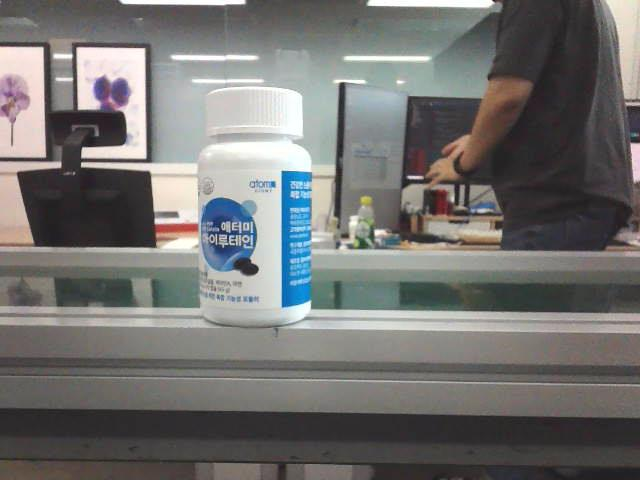labeled: (194, 80, 317, 332)
